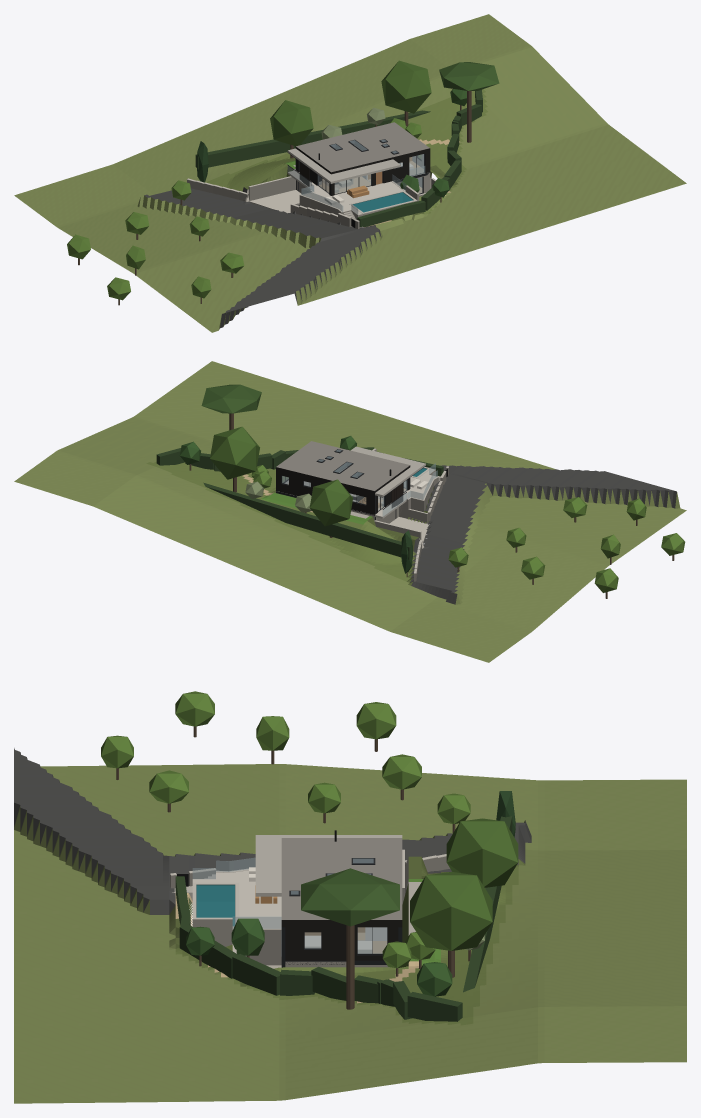
The model's file is casa_plinto_v3.dae.
3 views of the same model, one above another, from view 1: azimuth 30°, elevation 25°; view 2: azimuth 150°, elevation 25°; view 3: azimuth 270°, elevation 25° (orthographic). The views are drawn at different scales.
Parts seen in each view (by area): view 1: 01 Terreno, 15 Vegetação, 12 Cobertura e claraboias, 02 Muros exteriores e pátios, 10 R/C · caixilharia e vidros, 03 Deck e piscina, 13 Pala, 08 R/C · paredes, 14 Mobiliário; view 2: 01 Terreno, 15 Vegetação, 12 Cobertura e claraboias, 02 Muros exteriores e pátios, 08 R/C · paredes, 10 R/C · caixilharia e vidros, 13 Pala, 03 Deck e piscina; view 3: 01 Terreno, 15 Vegetação, 12 Cobertura e claraboias, 03 Deck e piscina, 02 Muros exteriores e pátios, 08 R/C · paredes, 10 R/C · caixilharia e vidros, 13 Pala, 14 Mobiliário.
Part boxes in pixels (x1,y1,x2,y2): 01 Terreno: (14, 14, 686, 332); 15 Vegetação: (67, 60, 499, 305); 12 Cobertura e claraboias: (295, 122, 430, 174); 02 Muros exteriores e pátios: (187, 176, 436, 228); 10 R/C · caixilharia e vidros: (287, 152, 425, 214); 03 Deck e piscina: (304, 181, 417, 219); 13 Pala: (287, 148, 400, 183); 08 R/C · paredes: (295, 146, 430, 195); 14 Mobiliário: (318, 153, 413, 204); 01 Terreno: (14, 361, 686, 662); 15 Vegetação: (156, 384, 685, 598); 12 Cobertura e claraboias: (276, 441, 410, 495); 02 Muros exteriores e pátios: (372, 448, 448, 581); 08 R/C · paredes: (276, 467, 410, 514); 10 R/C · caixilharia e vidros: (281, 463, 437, 516); 13 Pala: (351, 446, 425, 497); 03 Deck e piscina: (399, 467, 435, 516); 01 Terreno: (14, 748, 686, 1103); 15 Vegetação: (101, 691, 518, 1021); 12 Cobertura e claraboias: (281, 838, 402, 927); 03 Deck e piscina: (192, 870, 281, 927); 02 Muros exteriores e pátios: (170, 849, 450, 968); 08 R/C · paredes: (281, 927, 402, 960); 10 R/C · caixilharia e vidros: (192, 857, 387, 955); 13 Pala: (255, 835, 402, 896); 14 Mobiliário: (249, 830, 372, 953).
Size of the model in its own units: 79.53 by 52 by 16.32.
